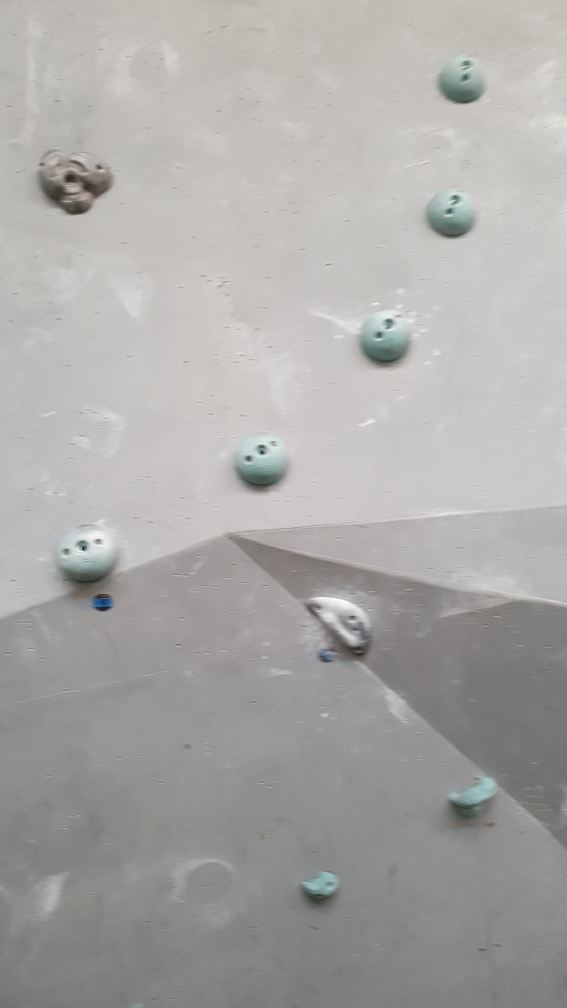Hand Start: (90, 588, 120, 613), (321, 643, 340, 666)
Jug: (36, 145, 123, 222)
Sloper: (56, 518, 113, 588), (355, 302, 417, 366), (231, 427, 290, 488), (423, 182, 478, 243), (436, 52, 491, 106)
